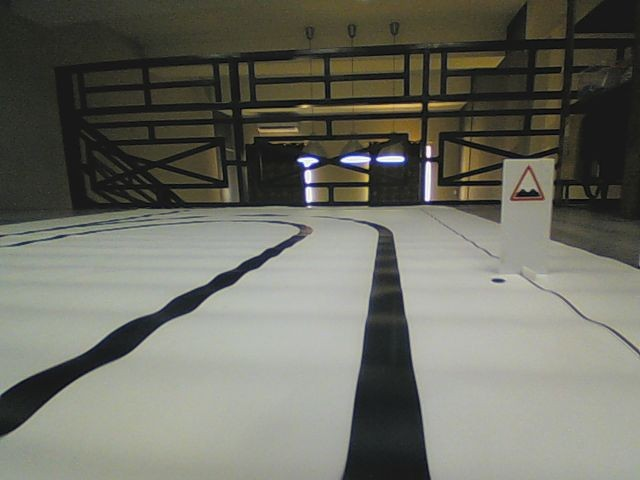Nerov: (509, 163, 546, 203)
